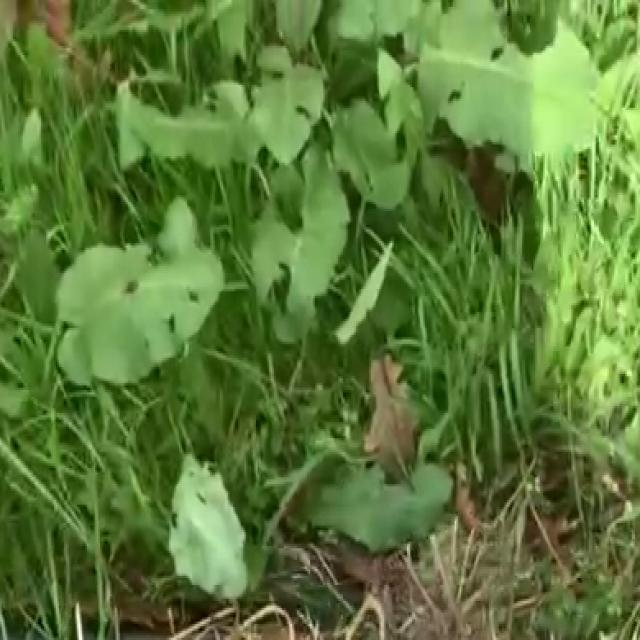organic waste: (121, 0, 628, 275), (108, 406, 491, 640), (41, 216, 294, 399)
